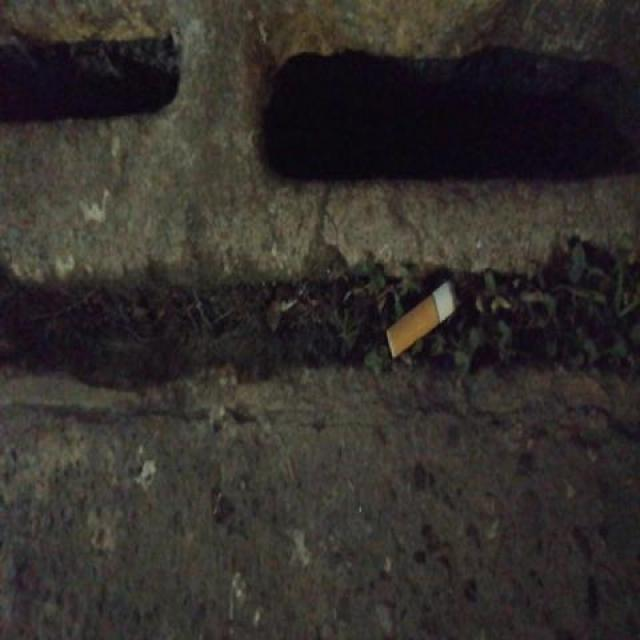non-organic waste: (384, 277, 464, 364)
